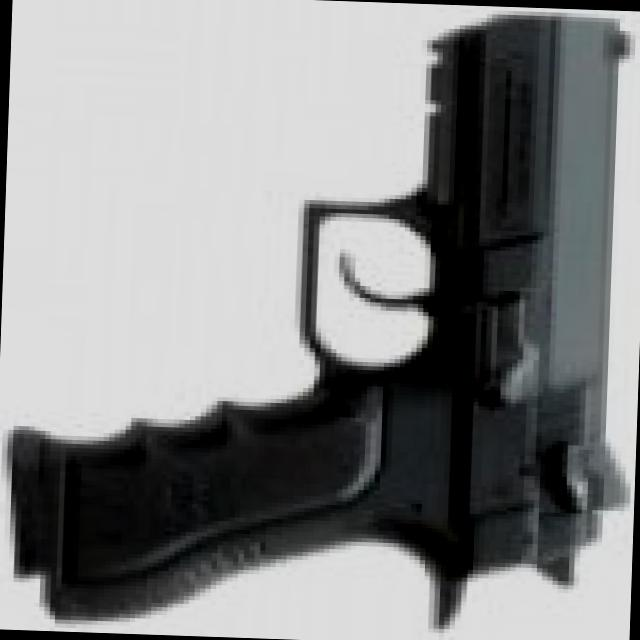handgun: (5, 1, 639, 635)
